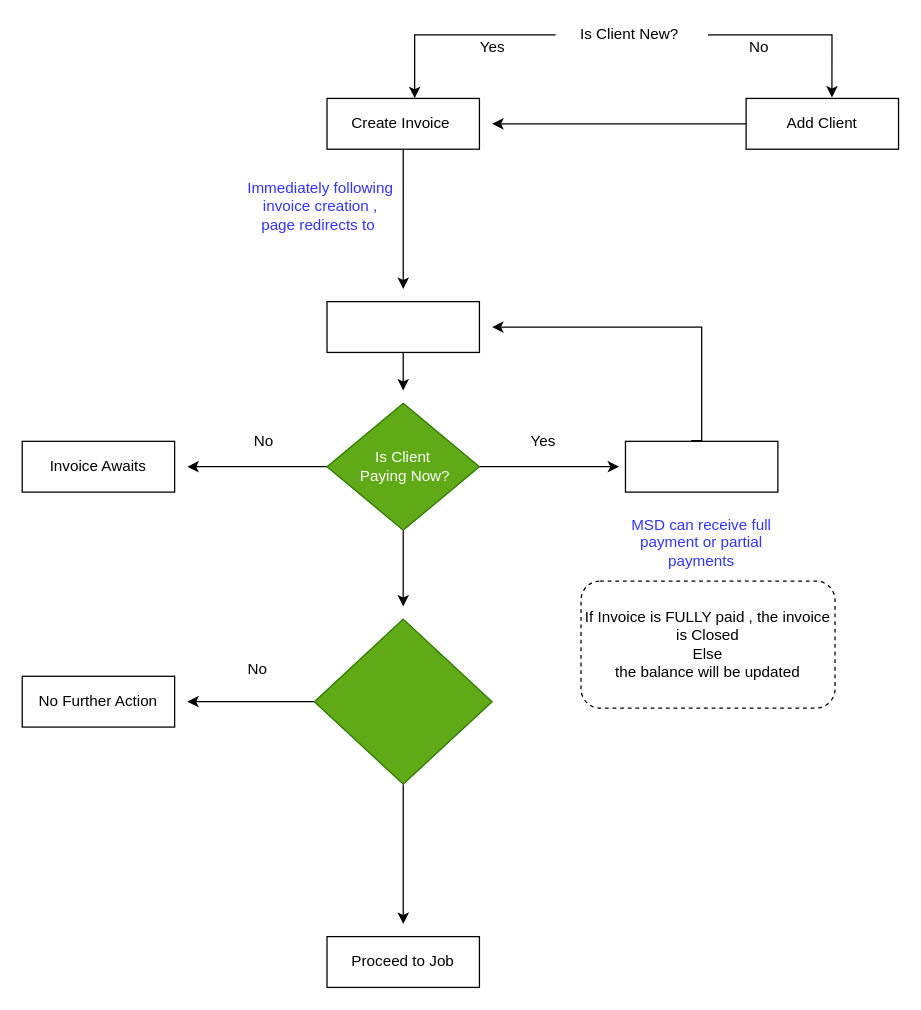
Image size: 921x1010. Some labels were removed from this diagram. Each missing label, with the centre of its shape:
"Is the transaction needs creating a job" belongs at [402,701].
"Receive Payments" belongs at [701,466].
"Single Client View" belongs at [402,326].
